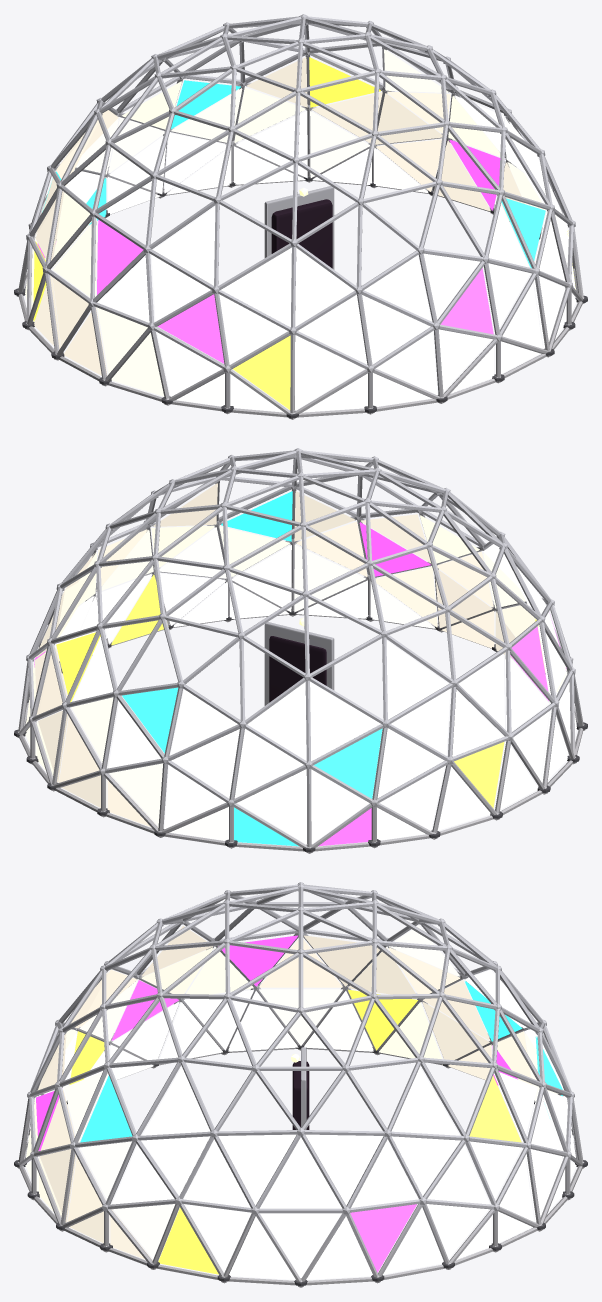
The model's file is dome.glb.
3 views of the same model, one above another, from view 1: azimuth 30°, elevation 25°; view 2: azimuth 150°, elevation 25°; view 3: azimuth 270°, elevation 25° (orthographic).
Visible parts, largest first — view 1: cover, lit0, lit2, lit1, door_slab, door_frame; view 2: cover, lit1, lit2, lit0, door_slab, door_frame; view 3: cover, lit2, lit0, lit1, door_slab.
Boxes of the visible parts, <box> form: cover: <box>25,49,576,412</box>; lit0: <box>37,139,500,363</box>; lit2: <box>33,57,575,409</box>; lit1: <box>42,80,545,268</box>; door_slab: <box>271,199,332,268</box>; door_frame: <box>264,186,334,269</box>; cover: <box>25,483,576,844</box>; lit1: <box>122,491,382,846</box>; lit2: <box>56,574,545,808</box>; lit0: <box>34,522,566,846</box>; door_slab: <box>269,636,326,702</box>; door_frame: <box>264,622,334,705</box>; cover: <box>25,925,576,1279</box>; lit2: <box>69,989,521,1274</box>; lit0: <box>36,935,517,1272</box>; lit1: <box>80,981,562,1142</box>; door_slab: <box>292,1061,309,1129</box>.
Size of the model in its own units: 10.23 by 5.17 by 10.23.
